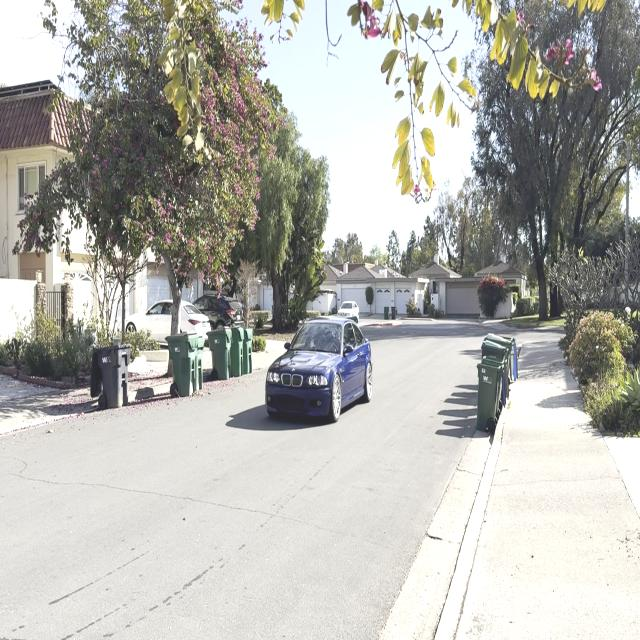Carbeetle: (260, 308, 378, 426)
